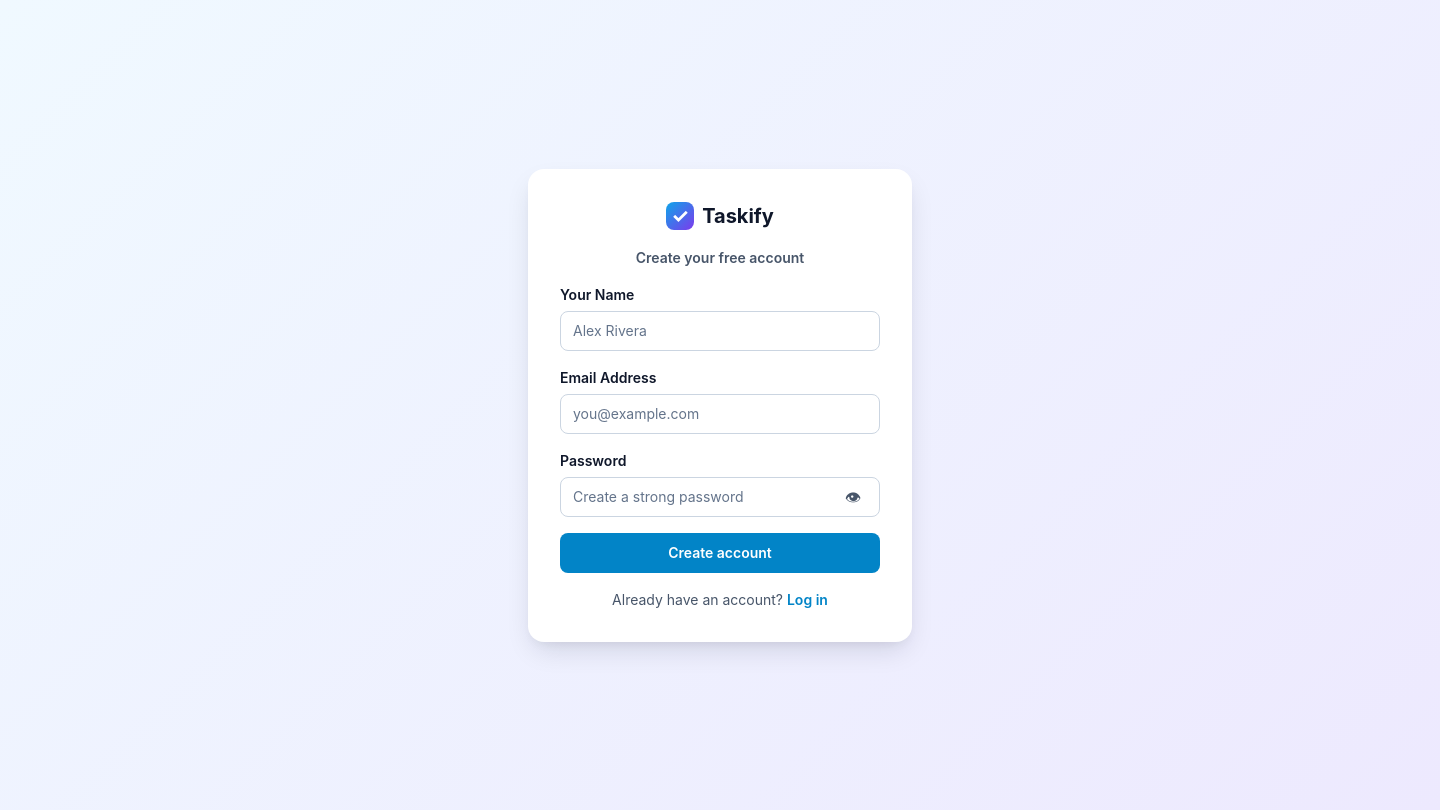
WelcomePage › offers the two onboarding choices, invite side disabled
Type "Jamie Fox" into the field labelled "Your Name" at (720, 330), box [573,313,867,348]
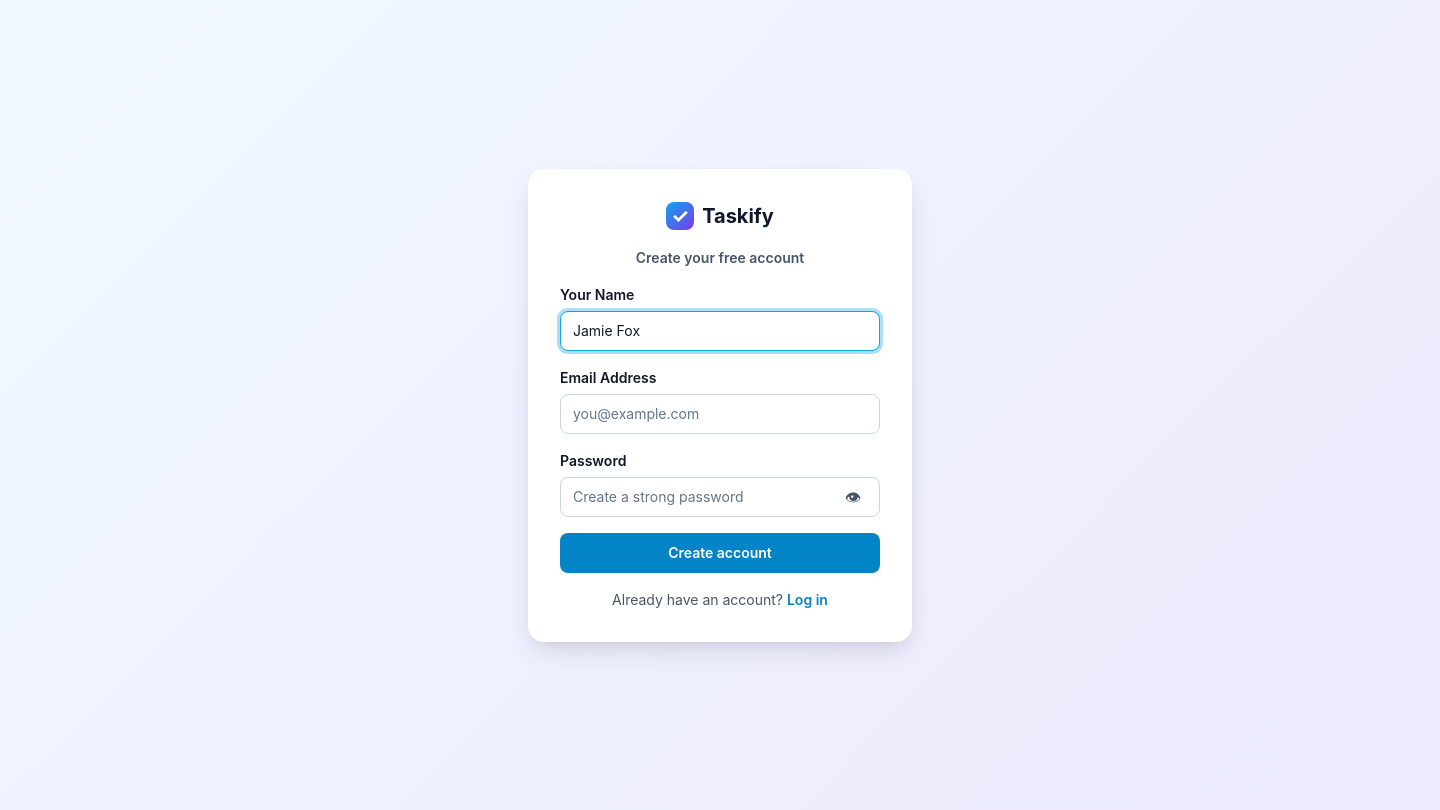
Type "jamie2@example.com" into the field labelled "Email Address" at (720, 414), box [573,396,867,431]
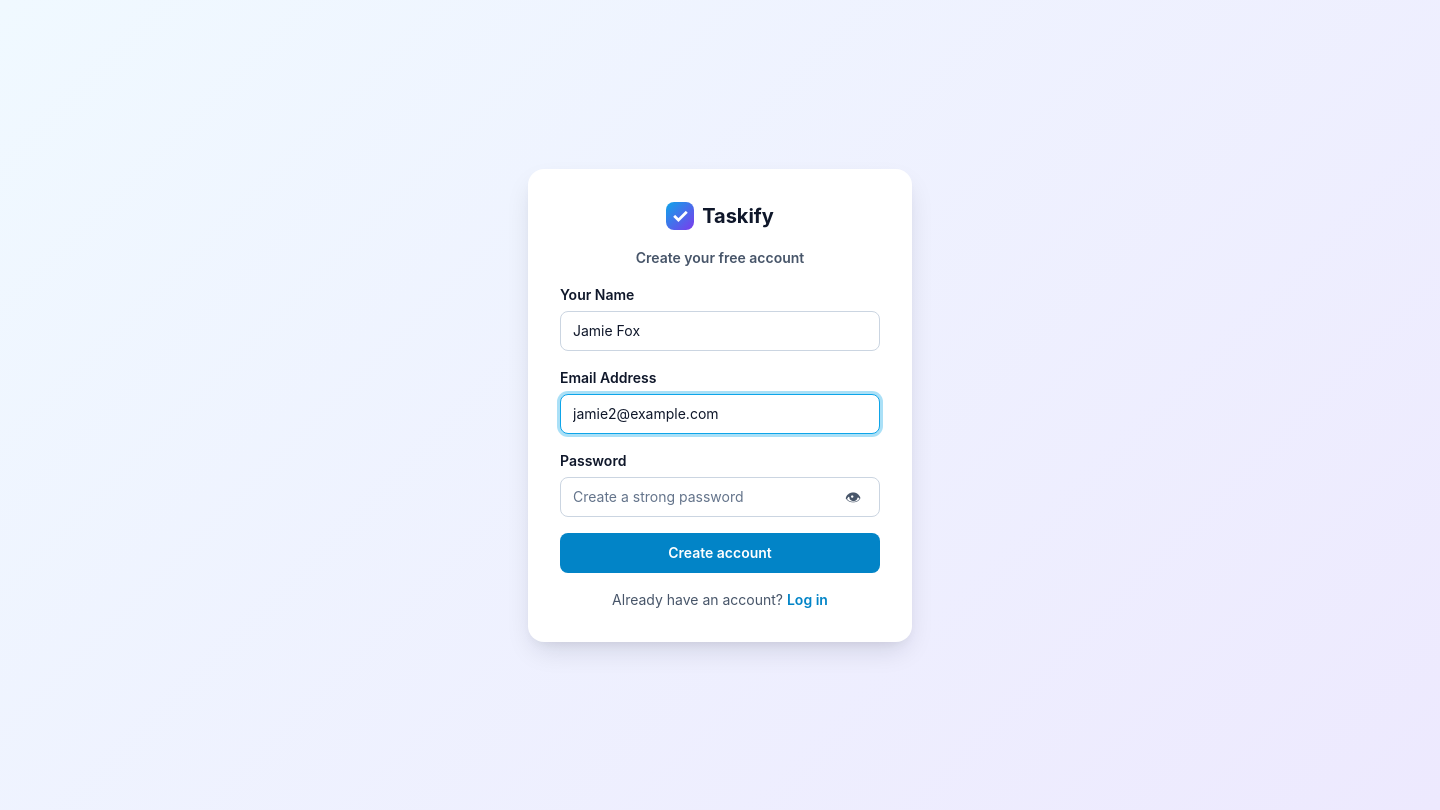
Type "supersecret" into the password field labelled "Password" at (702, 496), box [573,479,831,514]
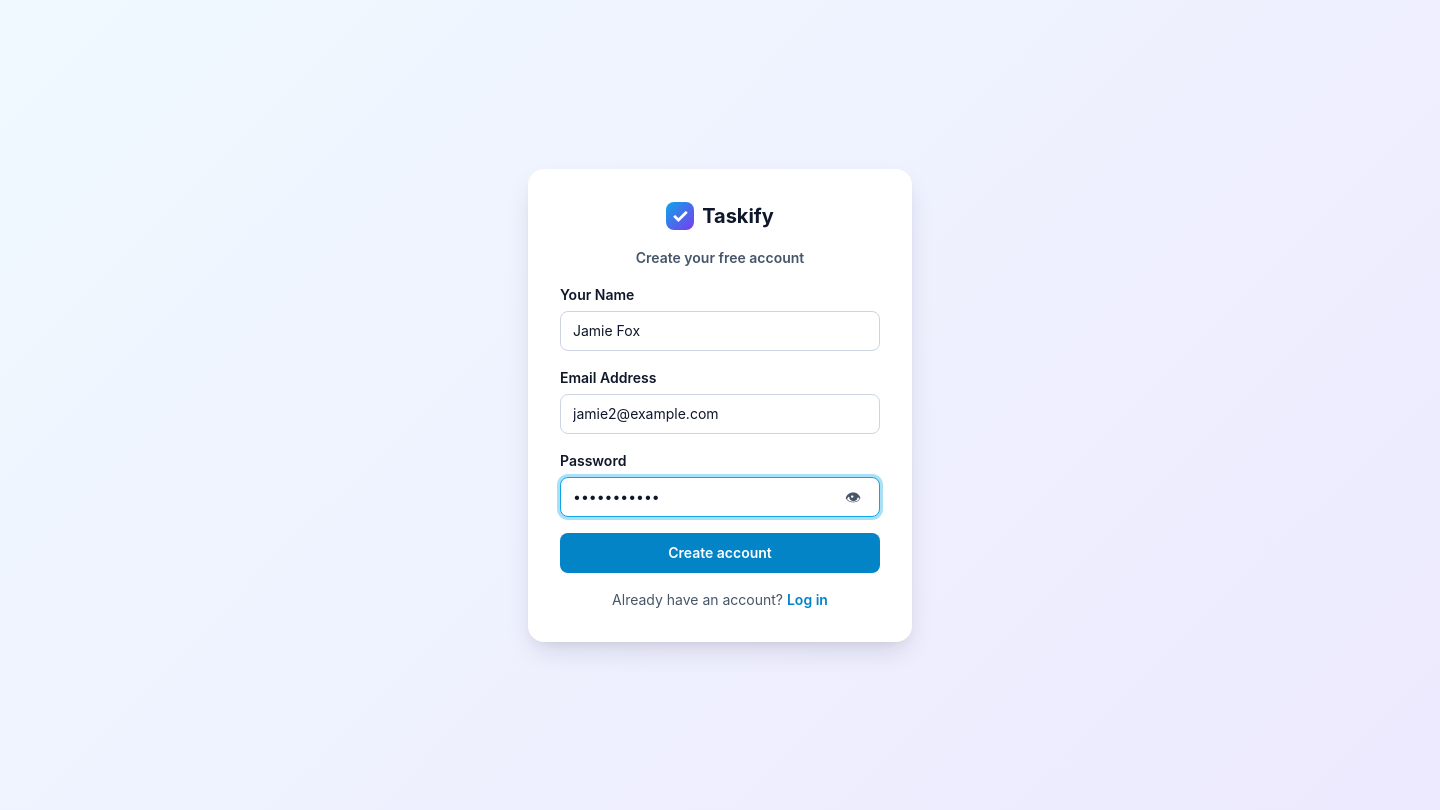
Click the button "Create account" at (720, 552), box [560,532,880,572]
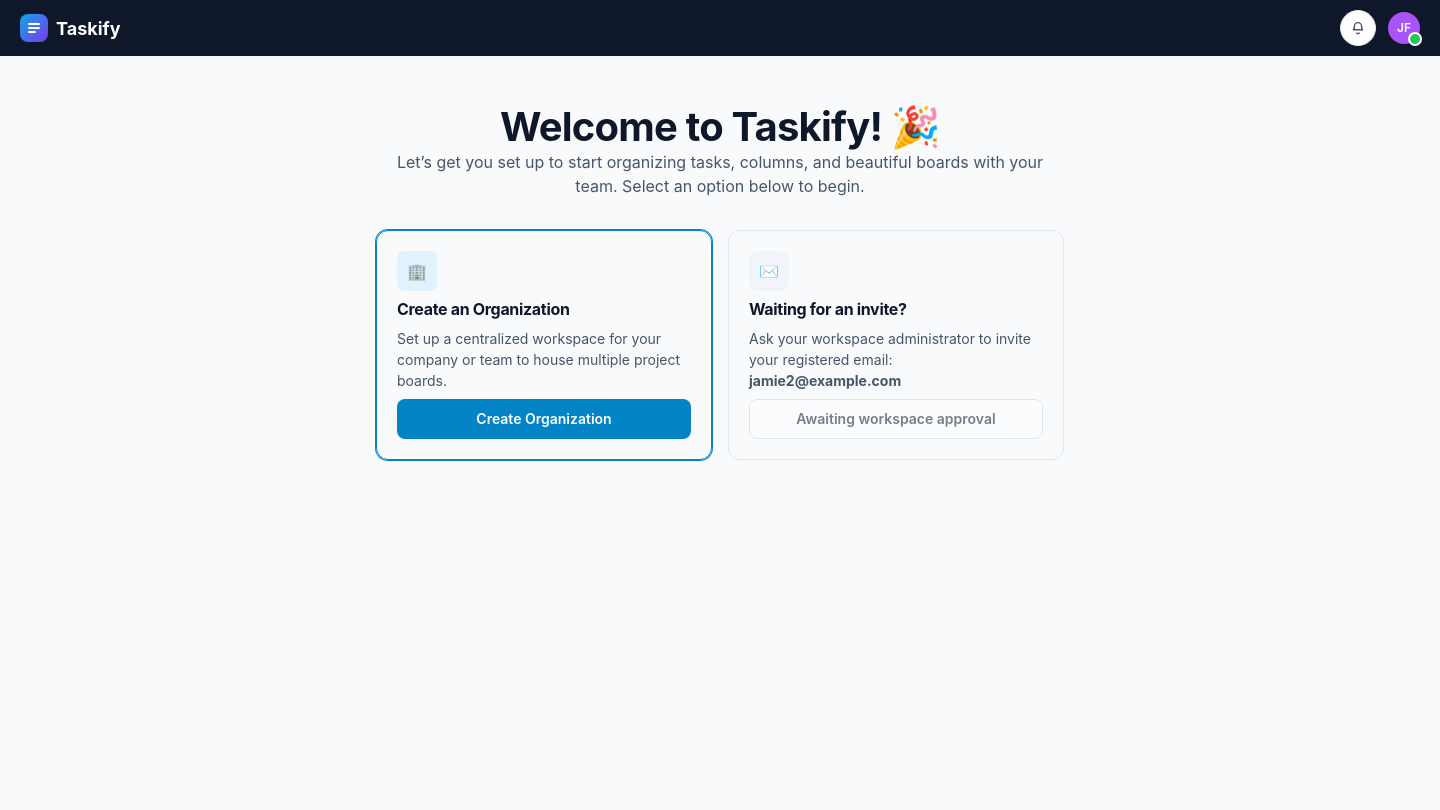
Now the heading "Create an Organization" is shown, box [397,299,570,319]
Now the button "Awaiting workspace approval" is disabled, box [749,399,1043,439]
